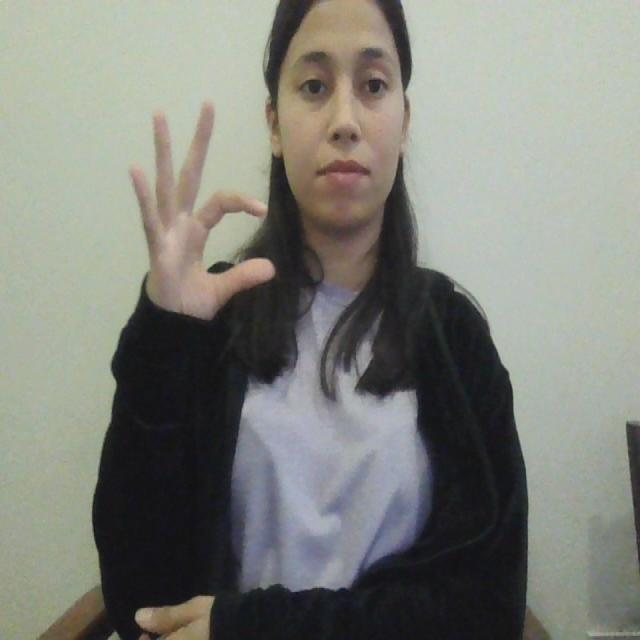Tuvalet: (104, 90, 285, 342)
